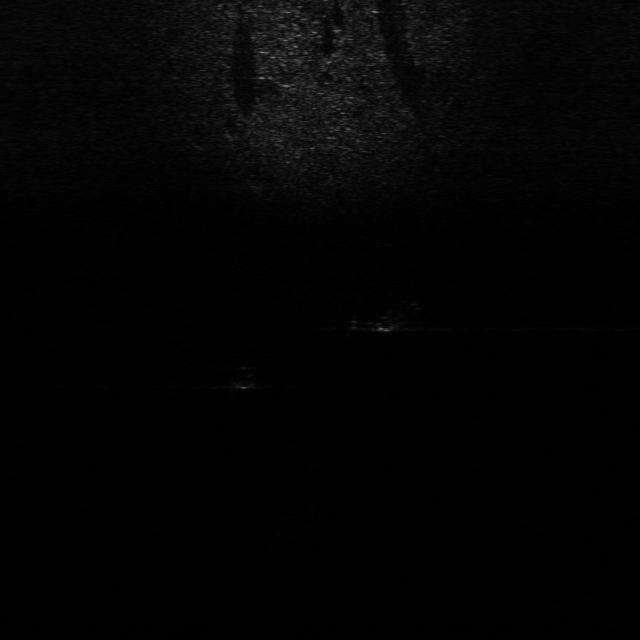ball: (226, 361, 264, 394)
human body: (346, 300, 426, 338)
